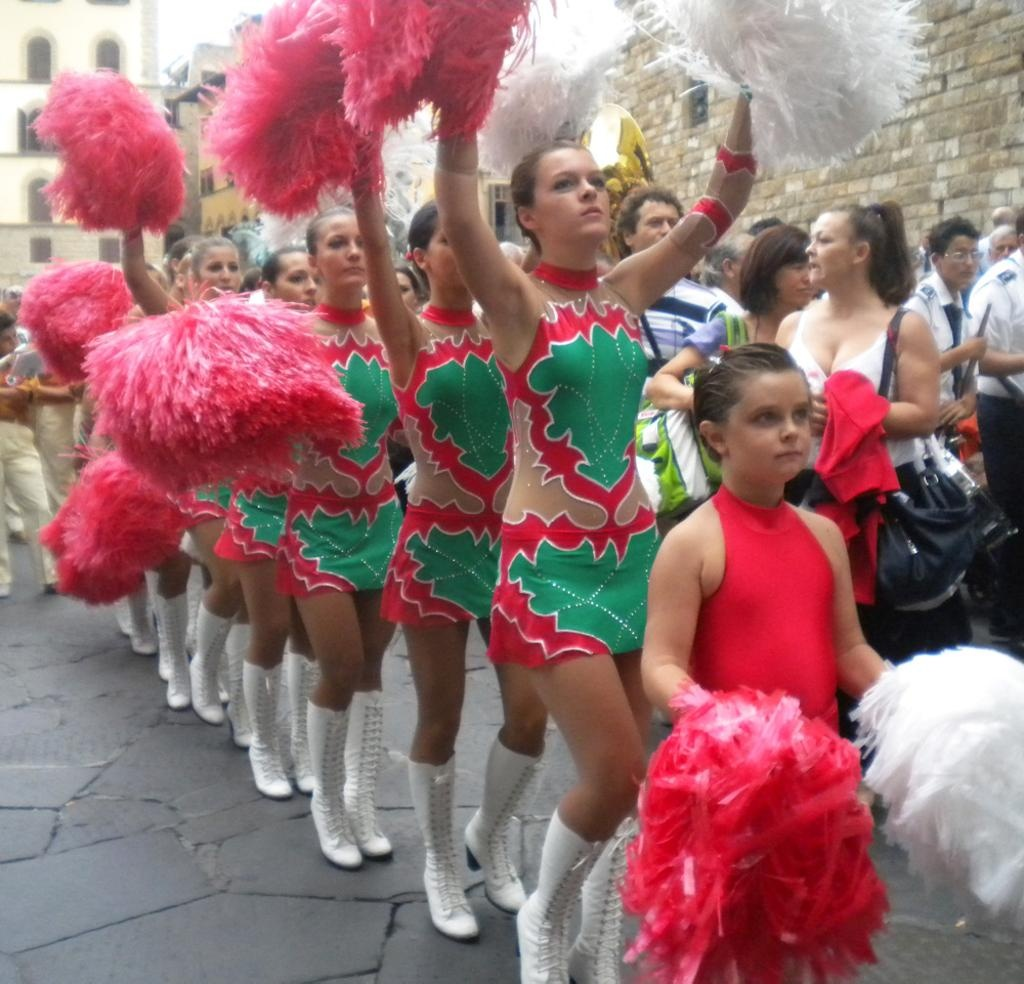human_face: (726, 370, 810, 474), (530, 146, 610, 238), (426, 214, 484, 281), (804, 209, 854, 282), (318, 215, 370, 285), (272, 252, 324, 318), (632, 198, 682, 260), (198, 245, 240, 303), (772, 249, 812, 303), (940, 232, 978, 285), (376, 271, 414, 323), (723, 247, 755, 291), (174, 262, 202, 296), (990, 236, 1018, 268), (0, 323, 22, 361), (4, 289, 24, 313), (924, 228, 936, 248)
